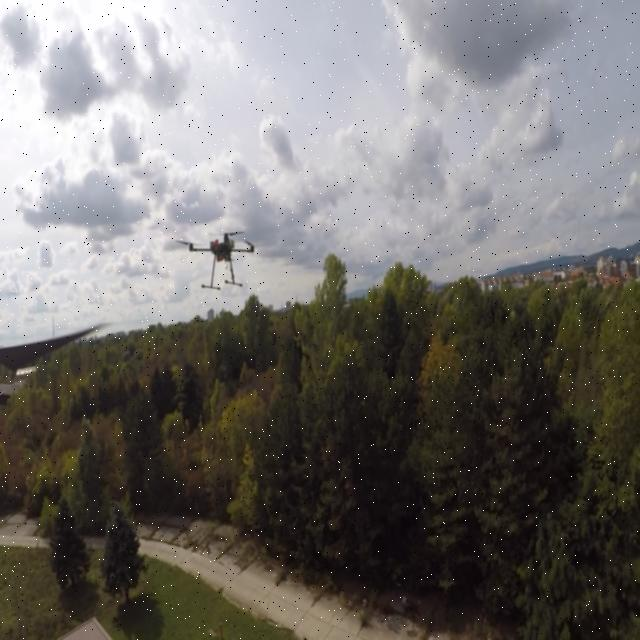UAV: (173, 218, 272, 298)
